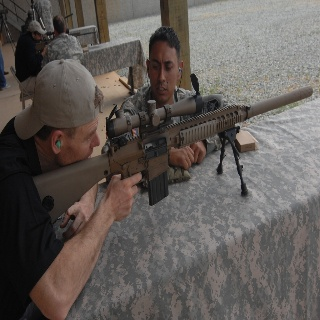rifle: (32, 71, 315, 224)
